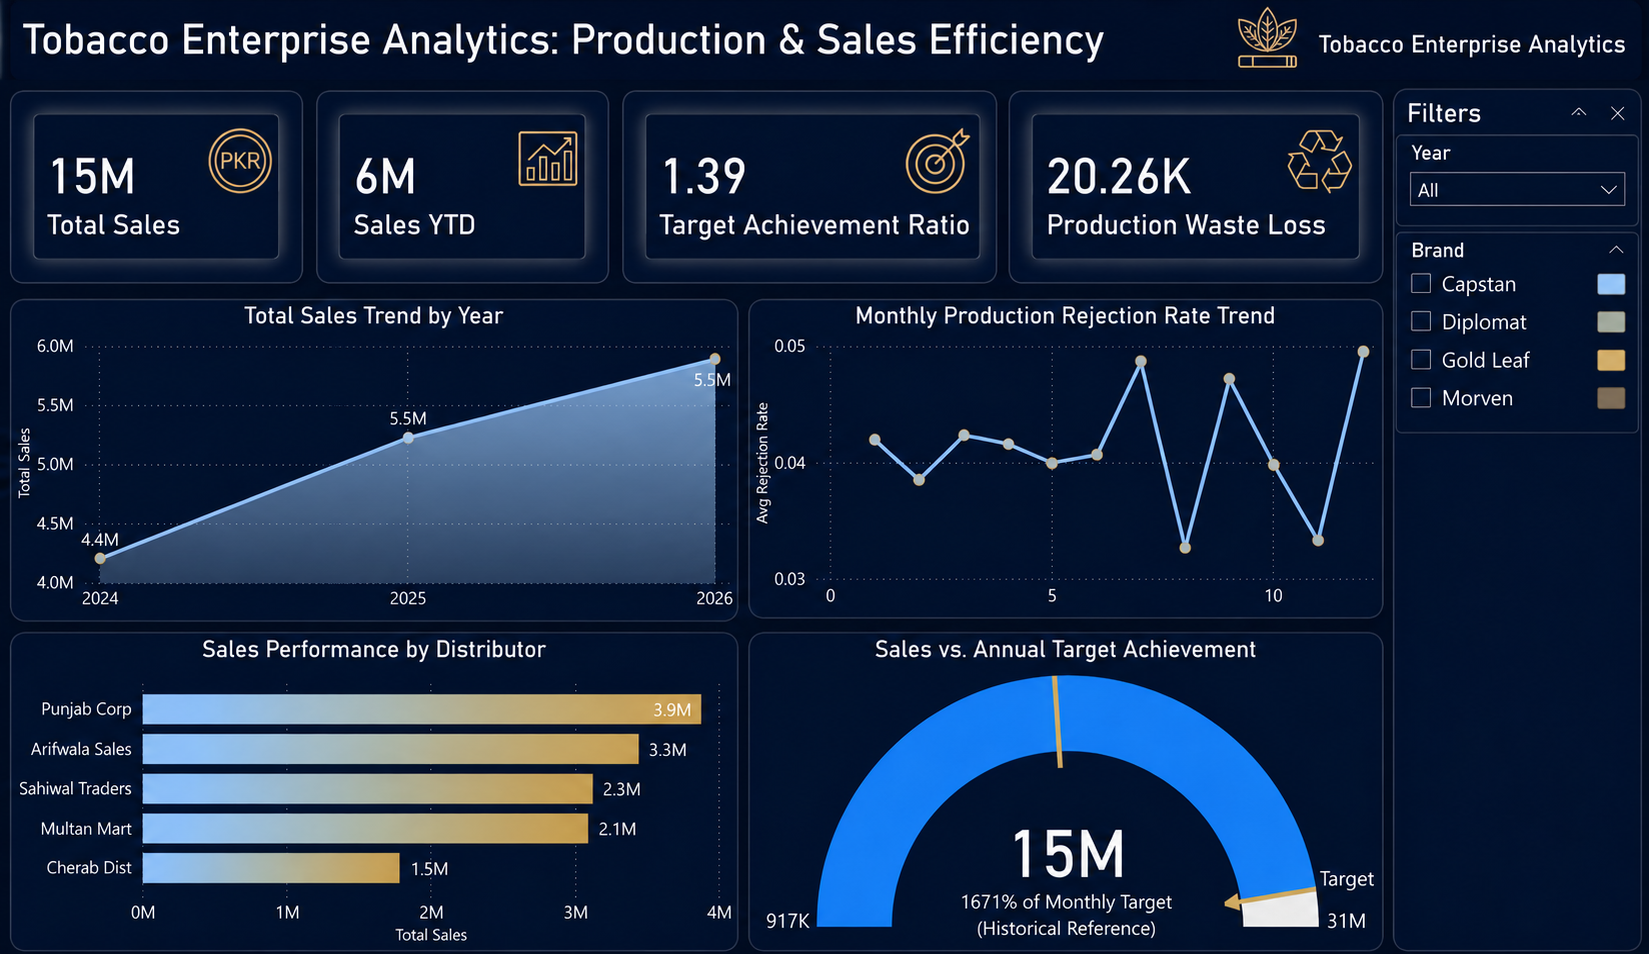

This screenshot's page, from the dashboard's own definition file:
{"tool":"powerbi","page":{"name":"Page 1","canvas":[1280,720],"ordinal":0},"visuals":[{"type":"textbox","box":[10.2,0,1245.6,57.4],"z":0},{"type":"cardVisual","fields":{"Data":["All Measures.Total Sales"]},"box":[10.2,67.6,223.1,145.3],"z":1},{"type":"cardVisual","fields":{"Data":["All Measures.Sales YTD"]},"box":[244.8,67.6,223.1,145.3],"z":2},{"type":"cardVisual","fields":{"Data":["All Measures.Target Achievement %"]},"box":[478.1,67.6,285.6,145.3],"z":3},{"type":"cardVisual","fields":{"Data":["All Measures.Production Waste Loss"]},"box":[775.1,67.6,285.6,145.3],"z":4},{"type":"areaChart","fields":{"Category":["Dim_Date.Date.Variation.Date Hierarchy.Year","Dim_Date.Date.Variation.Date Hierarchy.Quarter","Dim_Date.Date.Variation.Date Hierarchy.Month","Dim_Date.Date.Variation.Date Hierarchy.Day"],"Y":["All Measures.Total Sales"]},"box":[10.2,225.7,557.1,243.5],"z":5},{"type":"slicer","fields":{"Values":["Dim_Date.Year"]},"box":[1069.6,67.6,186.1,100.7],"z":6},{"type":"slicer","fields":{"Values":["Dim_Product.Brand"]},"box":[1069.6,174.7,186.1,151.7],"z":7},{"type":"lineChart","fields":{"Y":["All Measures.Avg Rejection Rate"],"Category":["Dim_Date.Month_Sort"]},"box":[575.4,226,484.2,241.4],"z":8},{"type":"barChart","title":"Total Sales by Distributor Name","fields":{"Category":["Dim_Distributor.Distributor_Name"],"Y":["All Measures.Total Sales"]},"box":[10,480,557,240],"z":9},{"type":"gauge","fields":{"Y":["All Measures.Total Sales"],"MinValue":["All Measures.Revenue Target"]},"box":[576,480,484,240],"z":10}]}

Visuals, with their boxes in screenshot pixels (x1, y1, x2, y2), scaled from the page's 1280x720 canvas onto the 1649x954 screenshot:
textbox: [13, 0, 1618, 76]
cardVisual - All Measures.Total Sales: [13, 90, 301, 282]
cardVisual - All Measures.Sales YTD: [315, 90, 603, 282]
cardVisual - All Measures.Target Achievement %: [616, 90, 984, 282]
cardVisual - All Measures.Production Waste Loss: [999, 90, 1366, 282]
areaChart - Dim_Date.Date.Variation.Date Hierarchy.Year x Dim_Date.Date.Variation.Date Hierarchy.Quarter: [13, 299, 731, 622]
slicer - Dim_Date.Year: [1378, 90, 1618, 223]
slicer - Dim_Product.Brand: [1378, 231, 1618, 432]
lineChart - All Measures.Avg Rejection Rate x Dim_Date.Month_Sort: [741, 299, 1365, 619]
"Total Sales by Distributor Name" barChart: [13, 636, 730, 953]
gauge - All Measures.Total Sales x All Measures.Revenue Target: [742, 636, 1366, 953]
